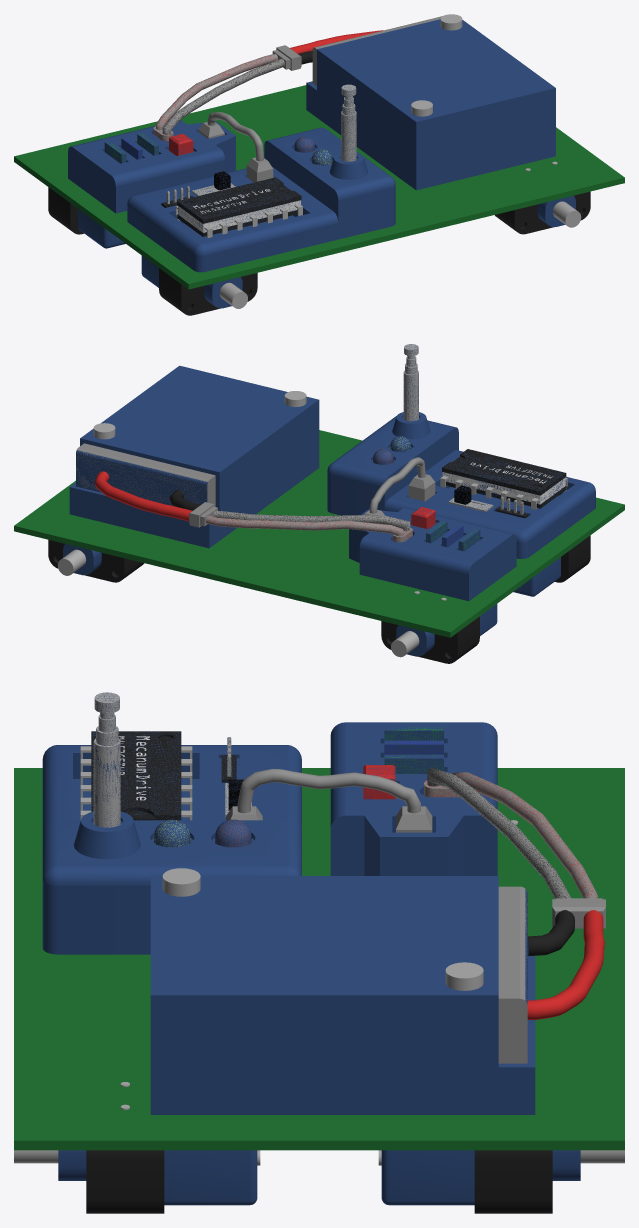
File: chasis.dae
3 renders of one model, top to bottom at view 1: azimuth 30°, elevation 25°; view 2: azimuth 150°, elevation 25°; view 3: azimuth 270°, elevation 25°, orthographic. The views are drawn at different scales.
Visible parts, largest first — view 1: group_18 (×3), group_15, box (×8), group_16 (×2), group_0 (×3), group_21 (×3), group_20 (×3), group_23 (×2); view 2: group_18 (×4), group_15, box (×8), group_16 (×2), group_0 (×2), group_23 (×3), group_22 (×3), group_21 (×2); view 3: group_18 (×5), group_15, box (×11), group_16 (×5), group_20 (×3), group_22 (×3), group_0, group_17, group_19.
Part boxes in pixels (x1,y1,x2,y2): group_18 (×3): (290,16,555,190); group_15: (14,85,624,289); box (×8): (127,53,395,272); group_16 (×2): (68,120,235,213); group_0 (×3): (177,177,301,236); group_21 (×3): (159,268,257,315); group_20 (×3): (495,191,590,234); group_23 (×2): (48,187,125,248); group_18 (×4): (69,365,319,548); group_15: (14,430,624,637); box (×8): (205,370,595,558); group_16 (×2): (349,507,516,601); group_0 (×2): (442,449,566,504); group_23 (×3): (381,616,479,663); group_22 (×3): (48,540,144,582); group_21 (×2): (513,535,590,596); group_18 (×5): (150,876,605,1114); group_15: (14,768,624,1150); box (×11): (42,738,598,954); group_16 (×5): (330,722,497,875); group_20 (×3): (58,1150,257,1213); group_22 (×3): (381,1150,580,1213); group_0: (91,731,181,820); group_17: (445,962,483,990); group_19: (162,868,200,896).
Bounding box in the file's own units: 455 × 315 × 183.
